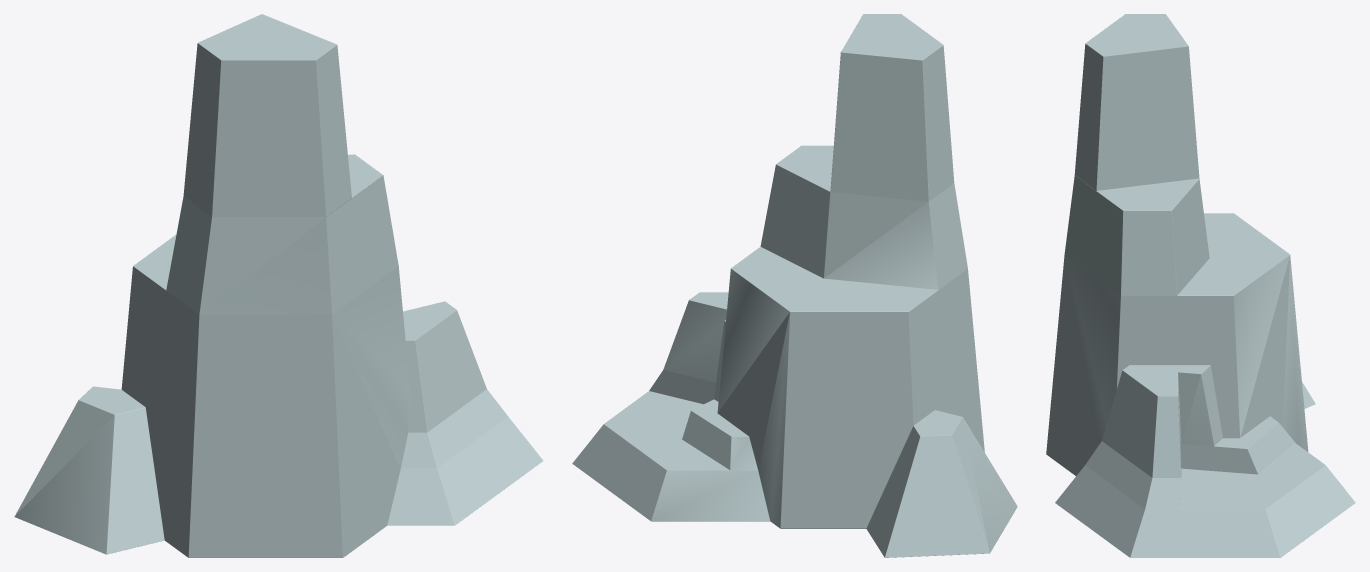
File: stone_tallA.glb
3 renders of one model, left to right at view 1: azimuth 30°, elevation 25°; view 2: azimuth 150°, elevation 25°; view 3: azimuth 270°, elevation 25°, orthographic. The views are drawn at different scales.
Parts seen in each view (by area): view 1: stone_tallA; view 2: stone_tallA; view 3: stone_tallA.
Part boxes in pixels (left/top/right/bottom): stone_tallA: left=14, top=14, right=543, bottom=557; stone_tallA: left=572, top=14, right=1017, bottom=557; stone_tallA: left=1046, top=14, right=1355, bottom=557.
Bounding box in the file's own units: 0.9826 × 0.9959 × 0.6827.
